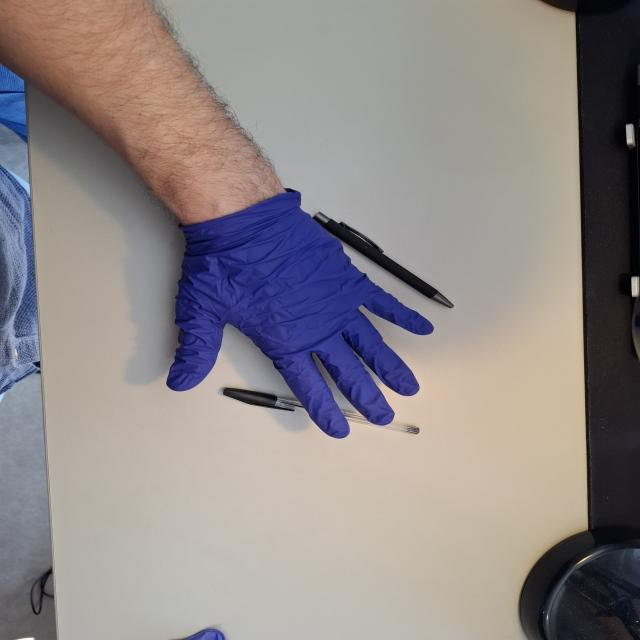glove_on: (162, 190, 438, 440)
